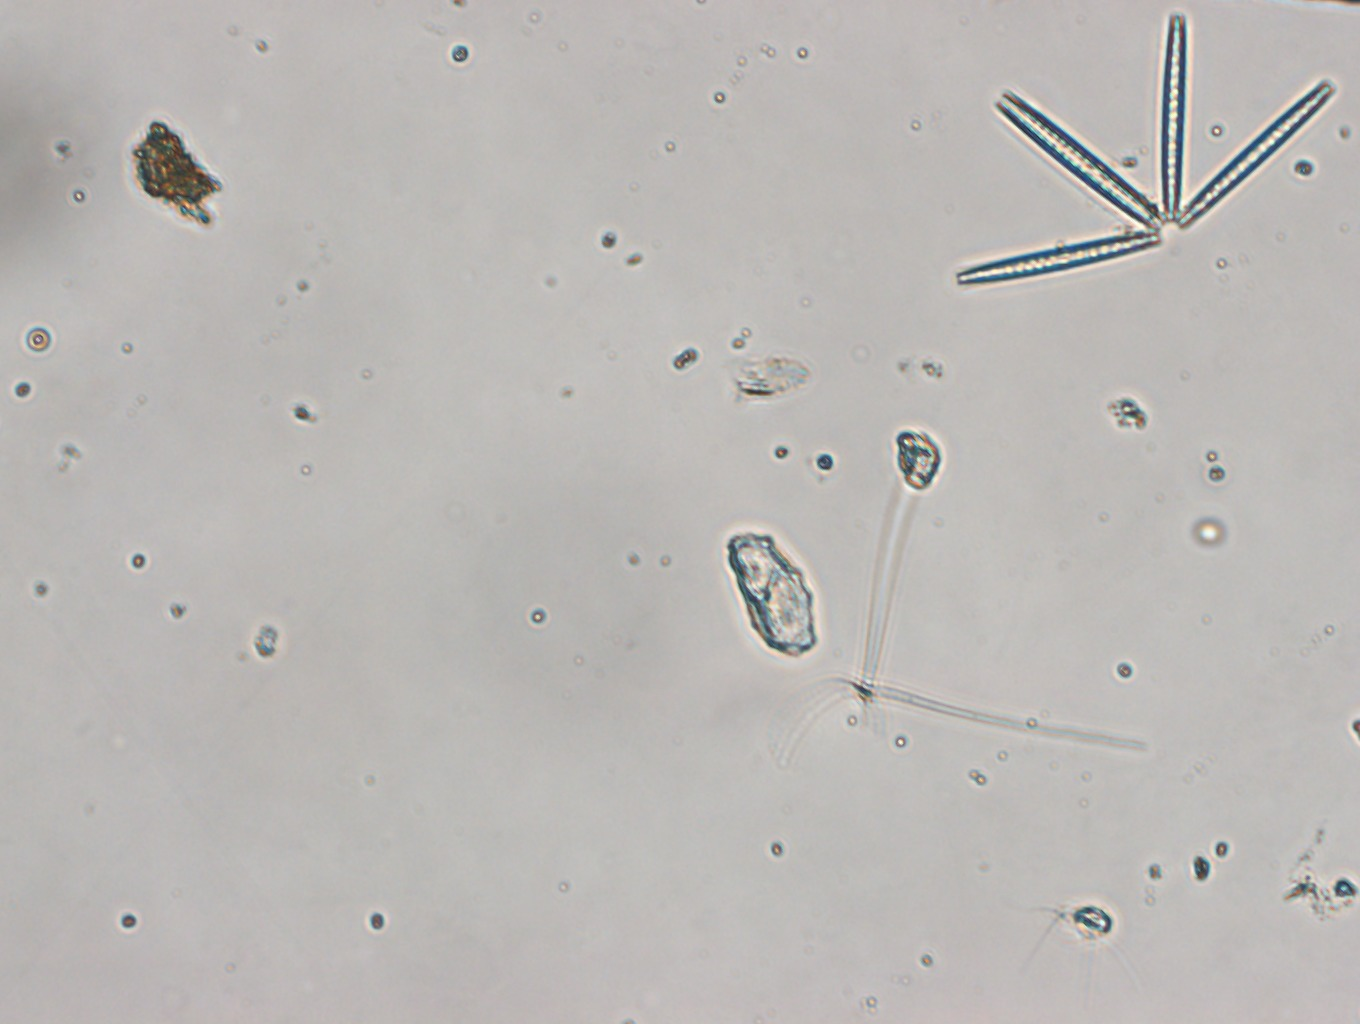thalassionema nitzschioides: (954, 12, 1338, 284)
